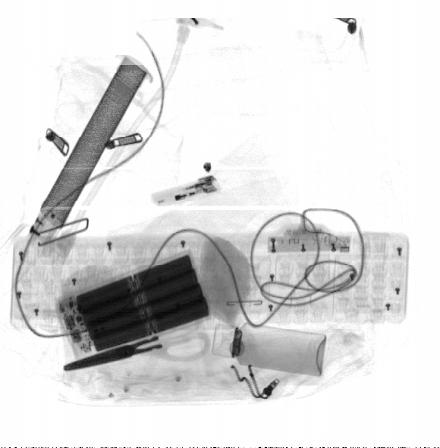Lighter: (151, 174, 223, 207)
Powerbank: (55, 247, 211, 362)
Scissors: (60, 297, 212, 372)
Sprayer: (211, 319, 326, 379)
